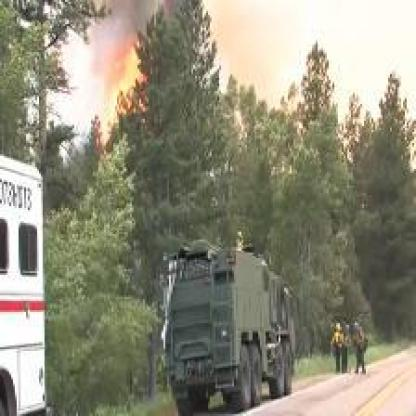fire: (83, 33, 181, 141)
